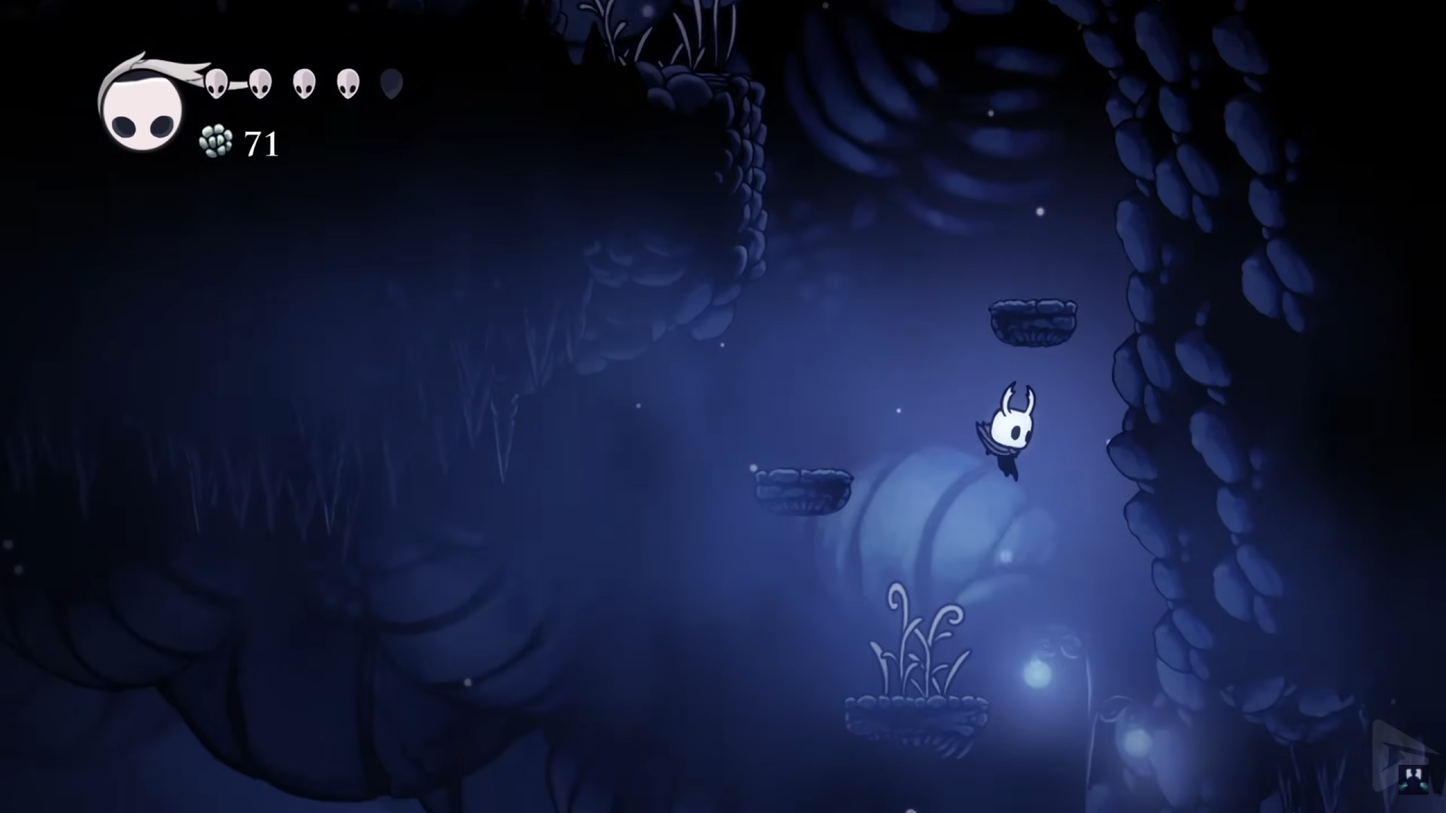HK: (975, 378, 1042, 480)
